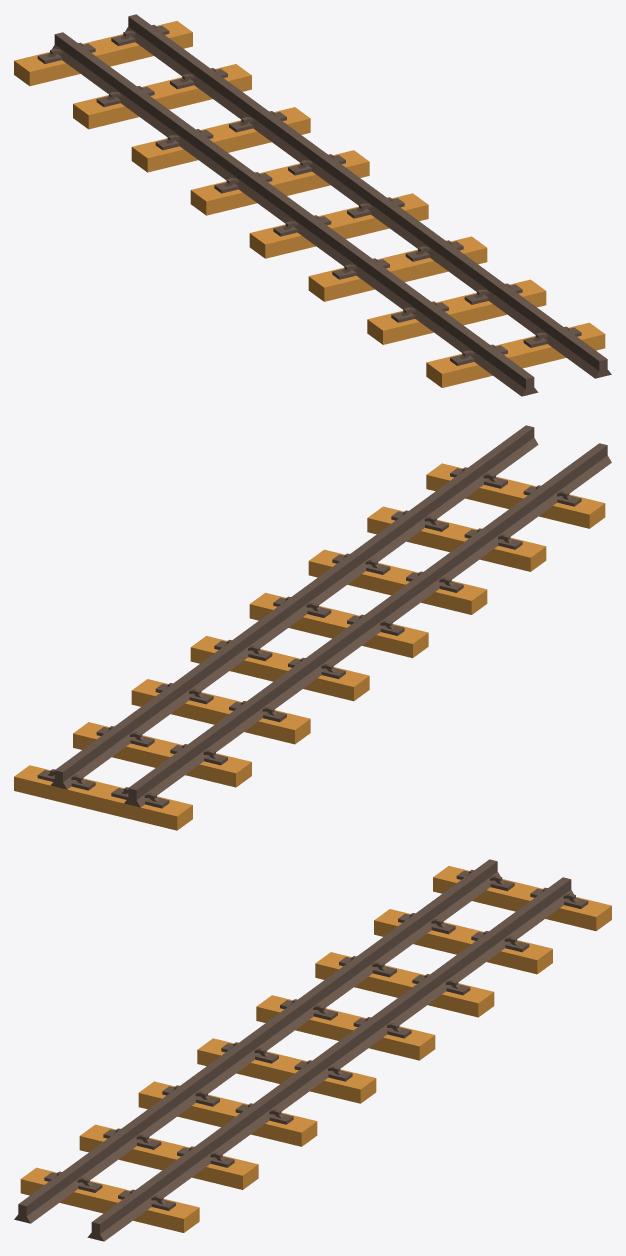
File: TrainTrack_Straight.fbx
3 views of the same model, one above another, from view 1: azimuth 30°, elevation 25°; view 2: azimuth 150°, elevation 25°; view 3: azimuth 330°, elevation 25° (orthographic).
Parts seen in each view (by area): view 1: TrainTrack_Straight; view 2: TrainTrack_Straight; view 3: TrainTrack_Straight.
Boxes of the visible parts, box(x1,y1,x2,y2) form: TrainTrack_Straight: box(14, 14, 611, 396); TrainTrack_Straight: box(14, 425, 611, 830); TrainTrack_Straight: box(14, 859, 611, 1241).
Size of the model in its own units: 90 by 450 by 16.14.
